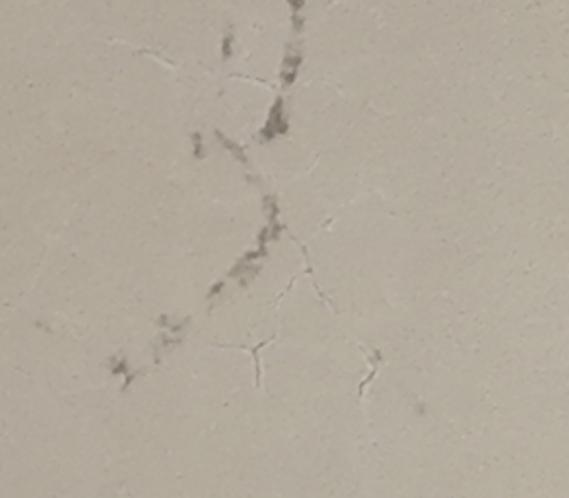fissura: (123, 3, 439, 473)
